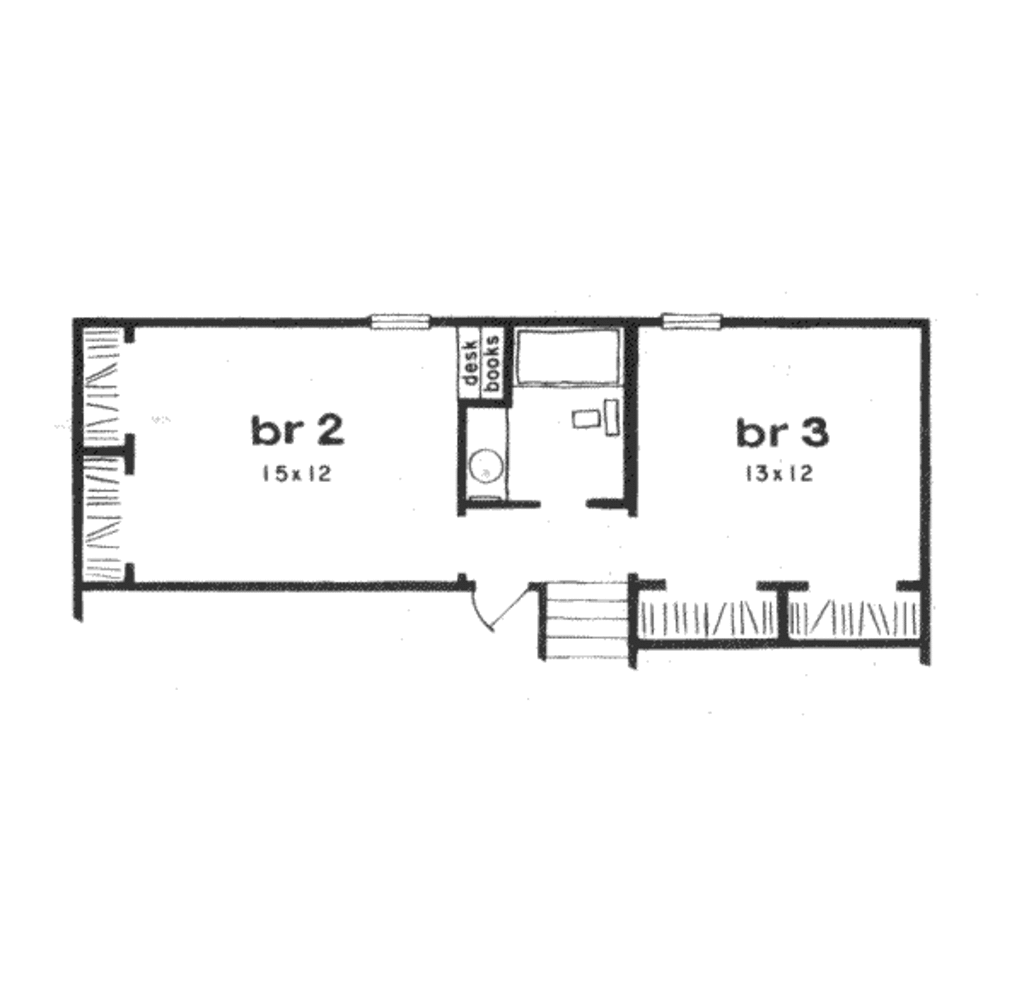door: (473, 574, 533, 638)
large_sink: (563, 389, 620, 434)
small_sink: (470, 404, 508, 505)
stairs: (541, 576, 636, 682)
tub: (521, 325, 629, 388)
window: (373, 310, 445, 340), (659, 311, 735, 338)
